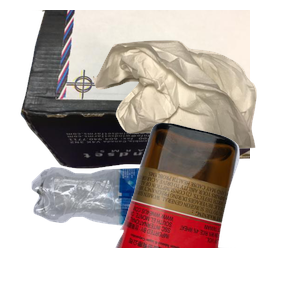cardboard: (18, 10, 258, 171)
glass: (113, 120, 300, 300)
plastic: (29, 165, 227, 300)
trash: (90, 38, 300, 183)
